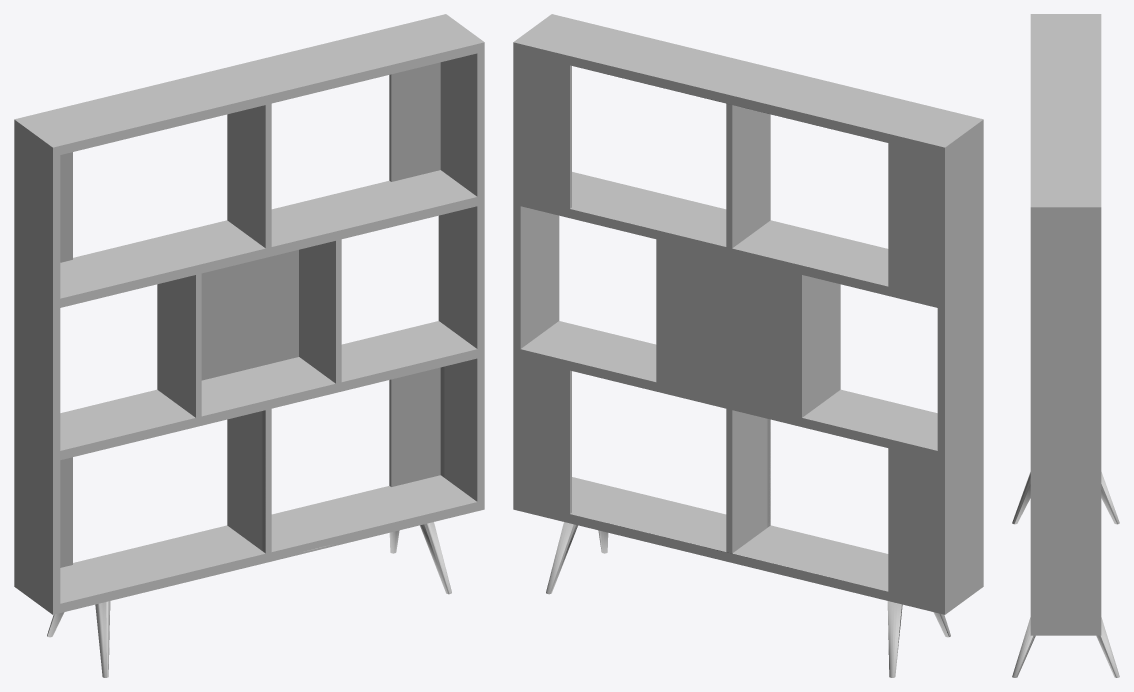
File: Estanteria guayblanca.fbx
The picture shows the model from 3 angles, left to right: view 1: azimuth 30°, elevation 25°; view 2: azimuth 150°, elevation 25°; view 3: azimuth 270°, elevation 25°; orthographic projection. The views are drawn at different scales.
Visible parts, largest first — view 1: estantes; view 2: estantes; view 3: estantes.
Boxes of the visible parts, x1=… form: estantes: x1=14, y1=14, x2=484, y2=677; estantes: x1=513, y1=14, x2=983, y2=677; estantes: x1=1012, y1=14, x2=1119, y2=677.
Size of the model in its own units: 184 by 217 by 43.33.
